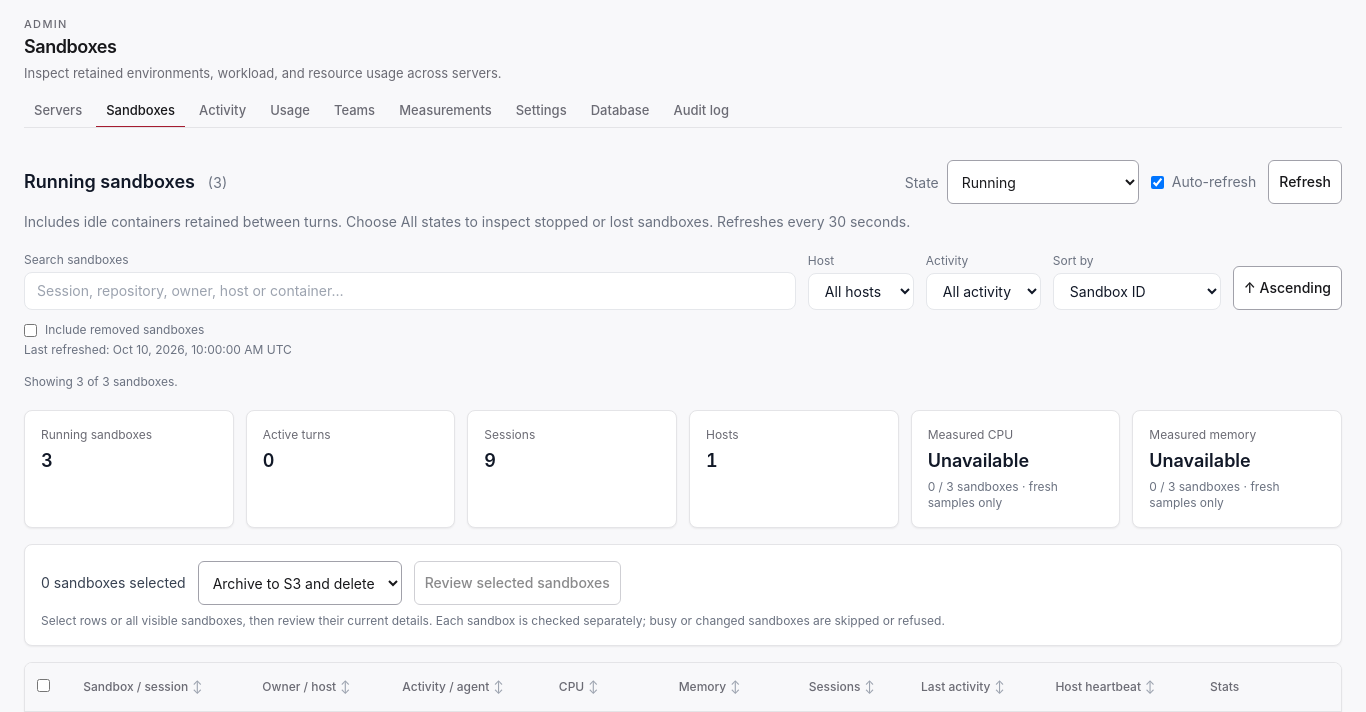
Test case: running sandbox inventory › retains failed and skipped rows selected after a partial batch succeeds and refreshes
Click the checkbox named "Select all visible sandboxes" at (44, 685), box x1=37 y1=678 x2=50 y2=692
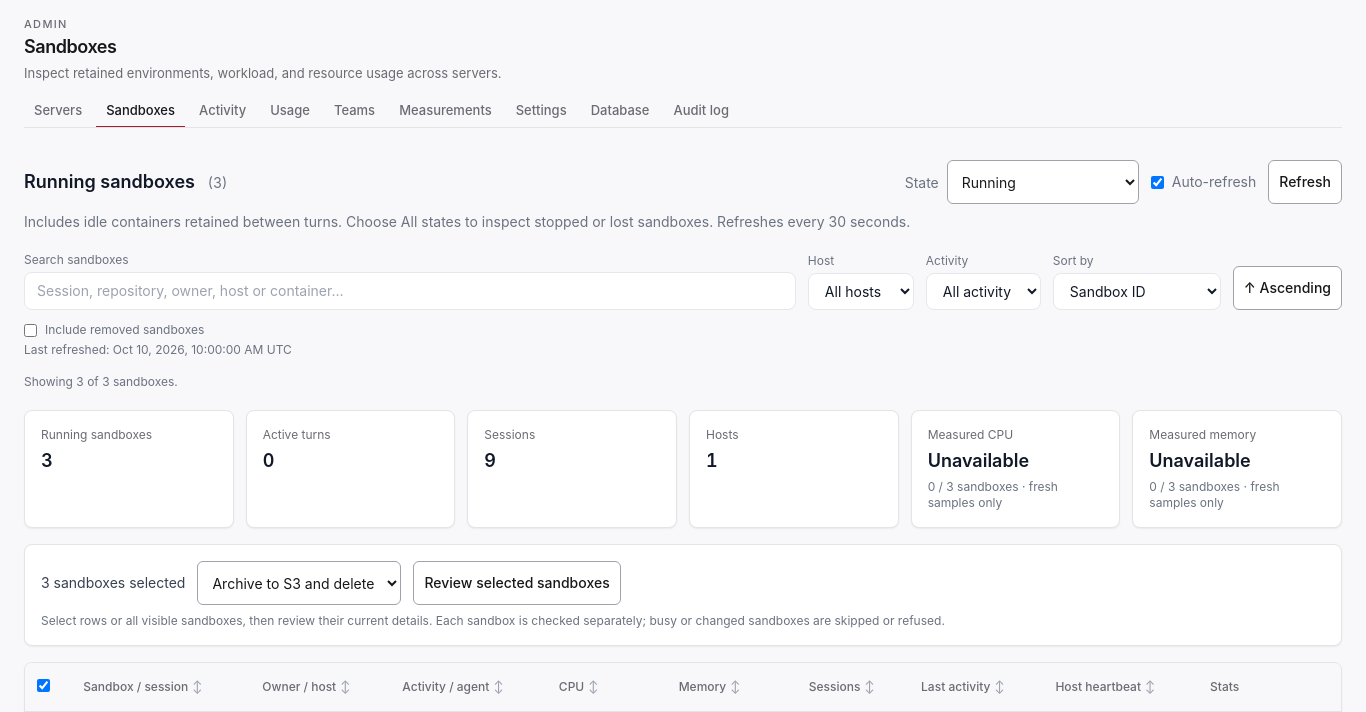
Select "Stop idle sandboxes" in the dropdown named "Batch sandbox action" at (300, 583), box x1=198 y1=561 x2=402 y2=605
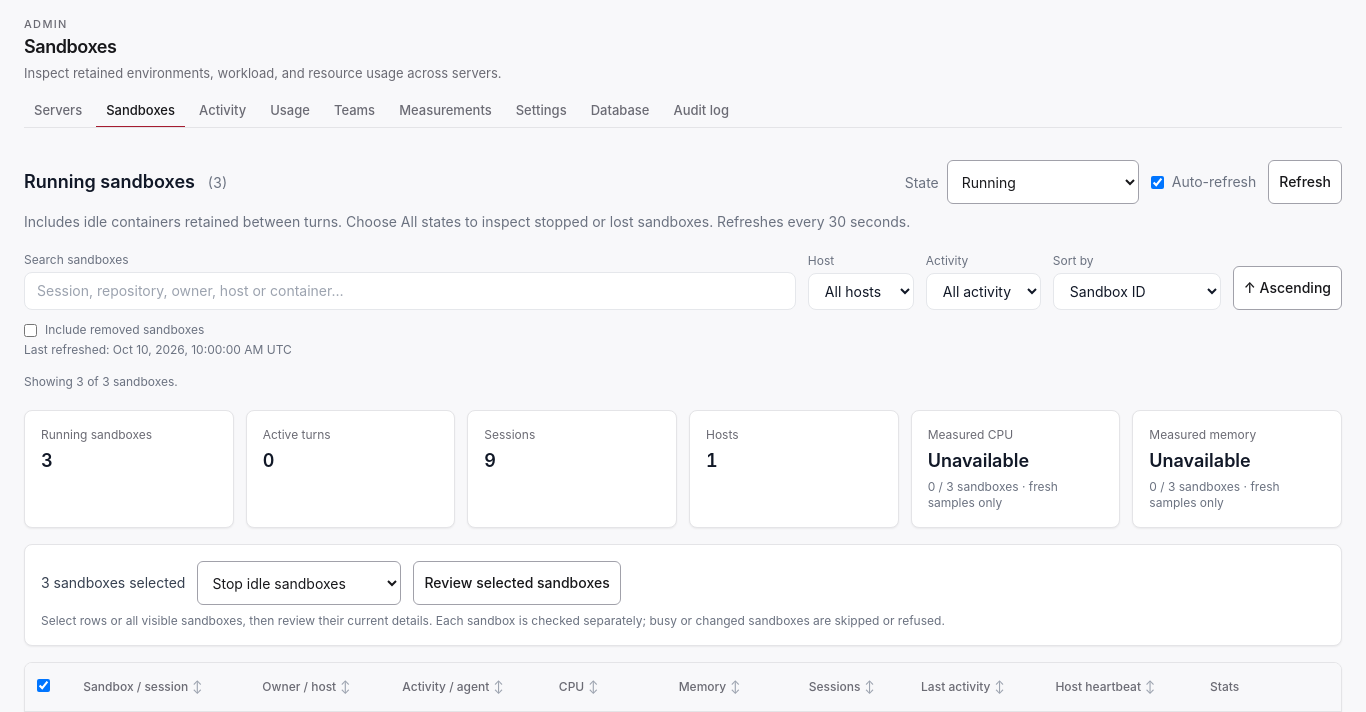
Click the button "Review selected sandboxes" at (517, 583), box x1=414 y1=561 x2=621 y2=605
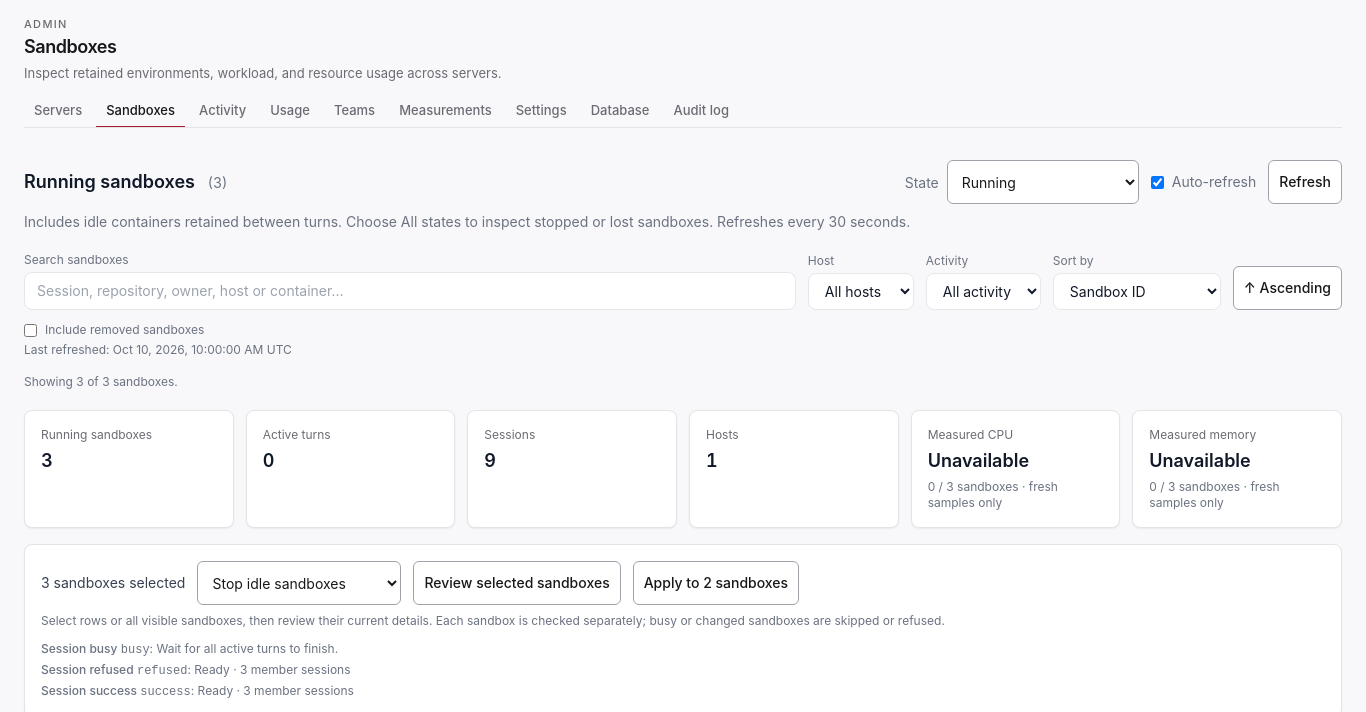
Now the button "Apply to 2 sandboxes" is enabled
Click the button "Apply to 2 sandboxes" at (716, 583), box x1=633 y1=561 x2=799 y2=605
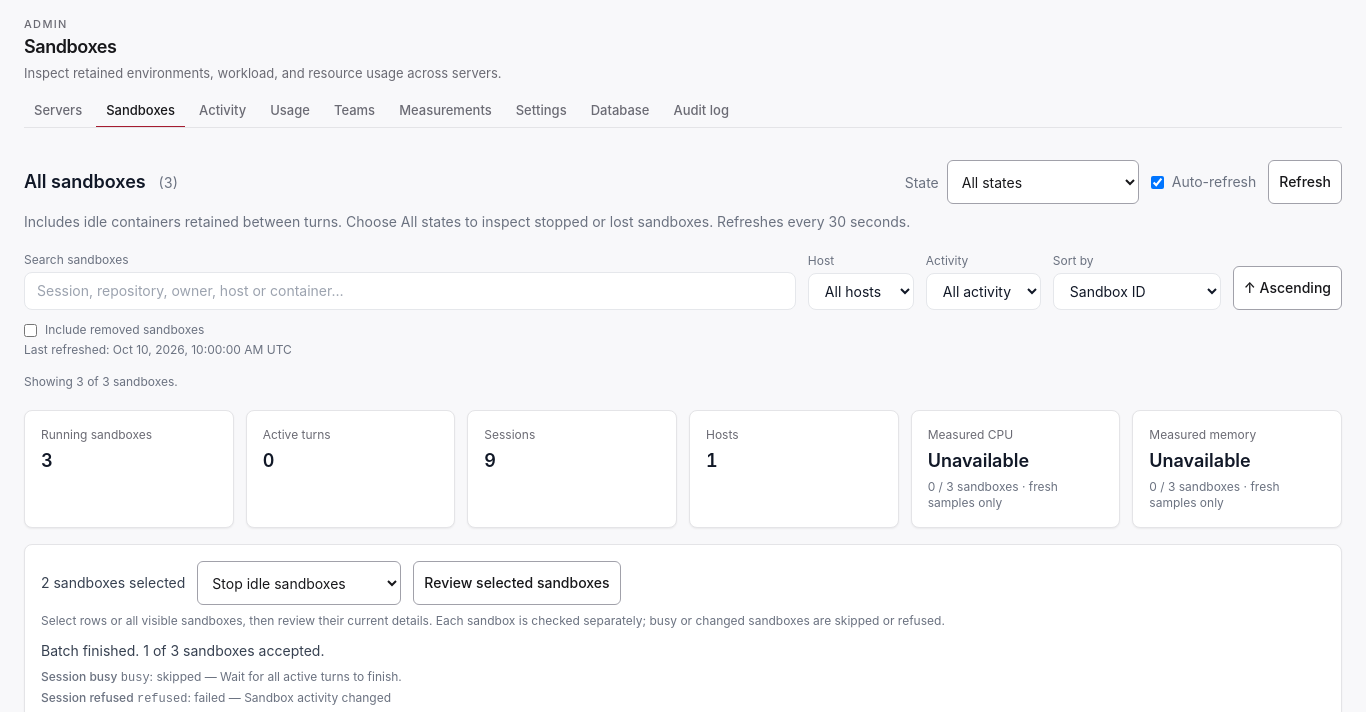
Now the list named "Sandbox batch results" shows "Sandbox activity changed", box x1=244 y1=690 x2=391 y2=705
Now the list named "Sandbox batch results" shows "Wait for all active turns to finish", box x1=220 y1=669 x2=402 y2=684
